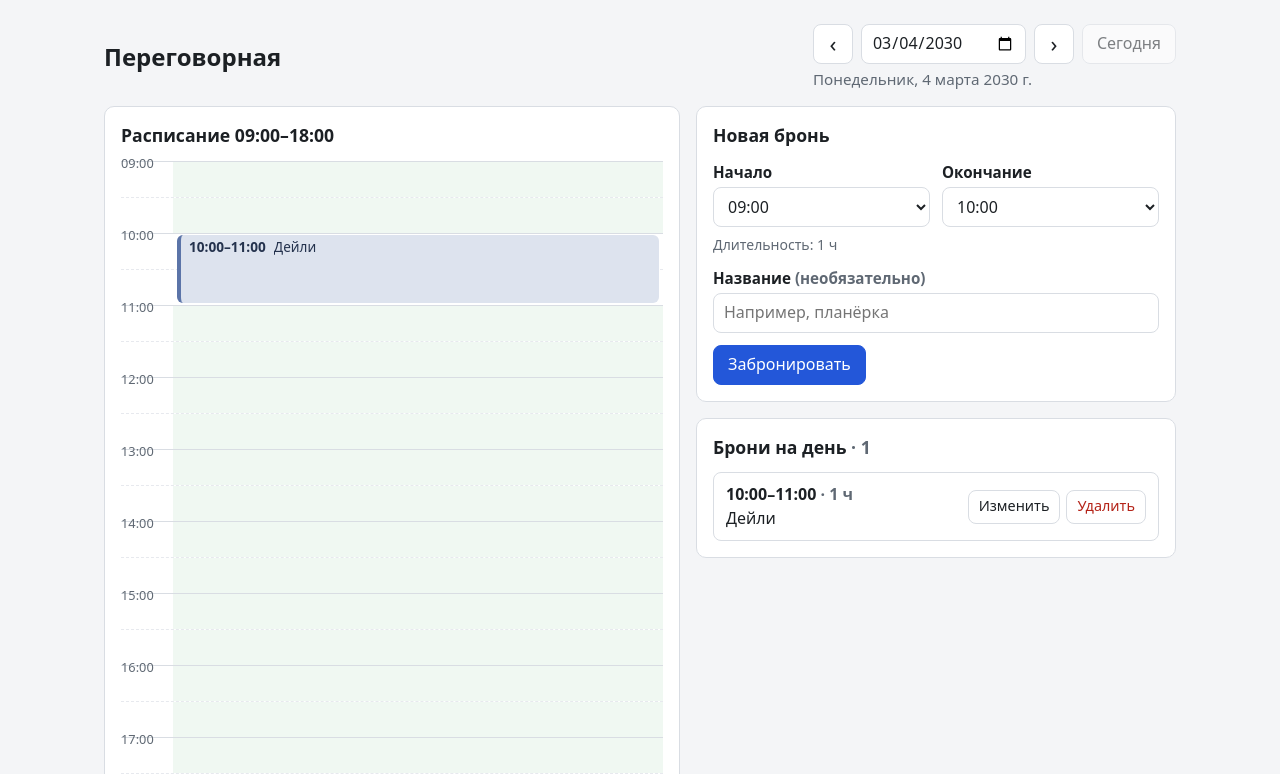
Test: BookingPage › leaves edit mode when the date changes
Expected: the text "Дейли" below "Брони на день" is shown, [726, 507, 776, 529]
Step 1. Click the button with aria-label "Изменить бронь 10:00–11:00, Дейли" → x=1014, y=507, box [968, 490, 1060, 524]
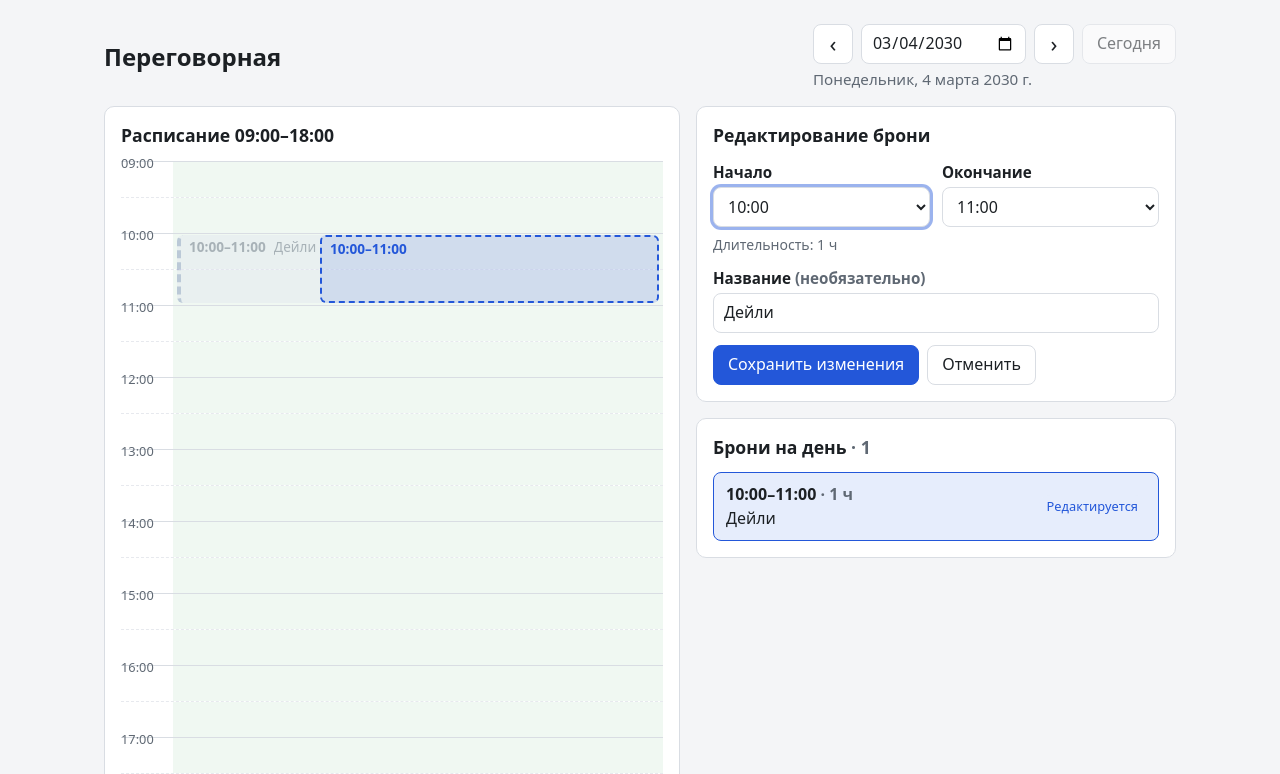
Expected: the heading "Редактирование брони" is shown, [713, 123, 930, 147]
Step 2. Click the button named "Следующий день" → x=1054, y=44, box [1034, 24, 1074, 64]
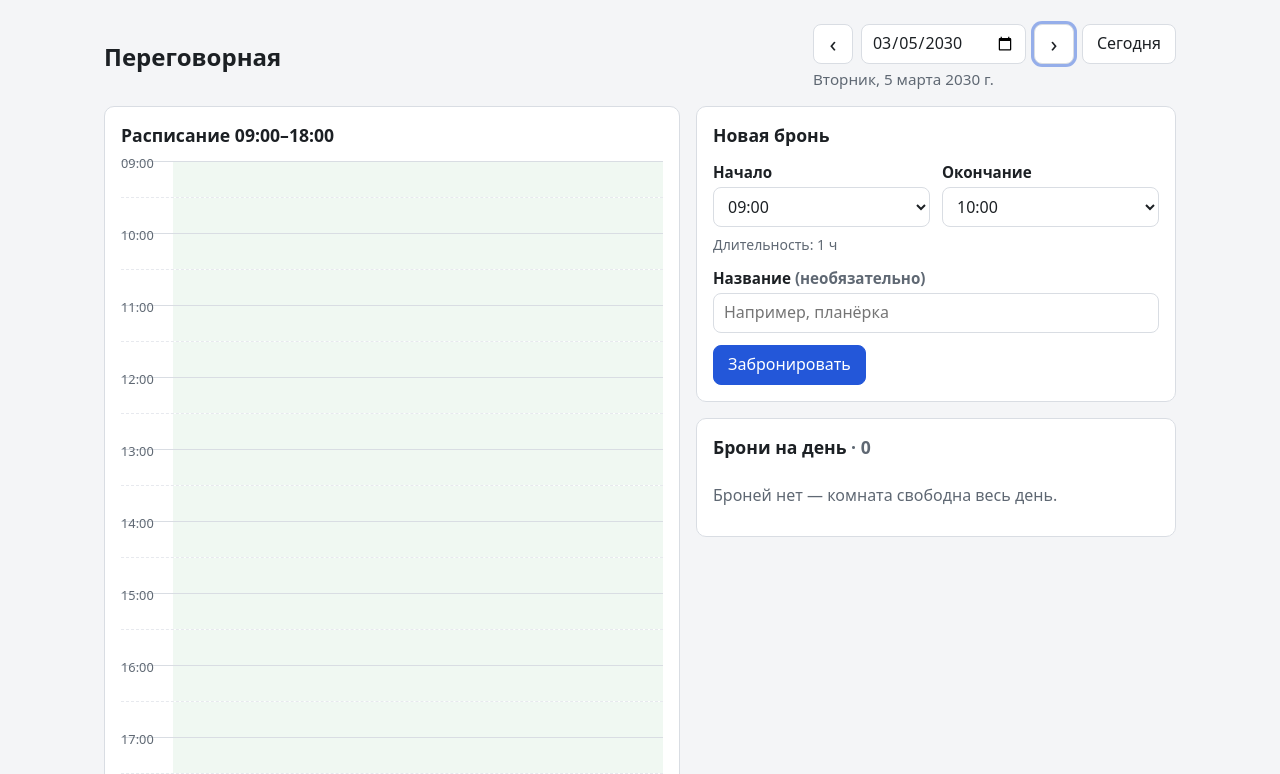
Expected: the heading "Новая бронь" is shown, [713, 123, 830, 147]
